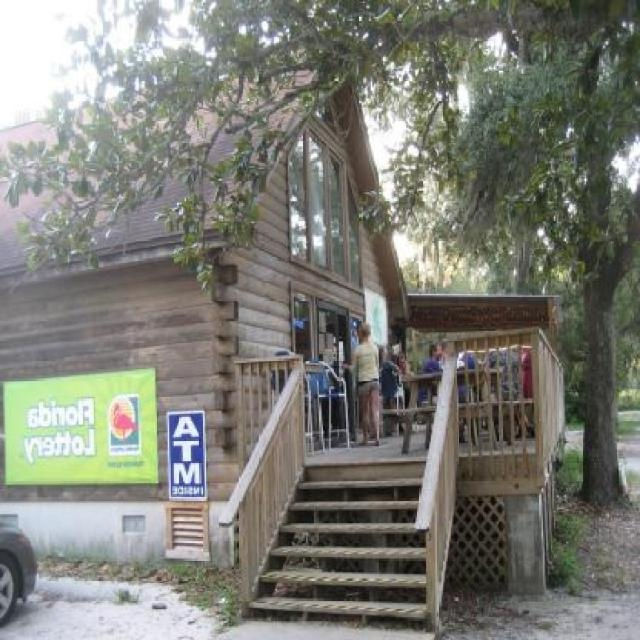stair: (246, 460, 434, 634)
